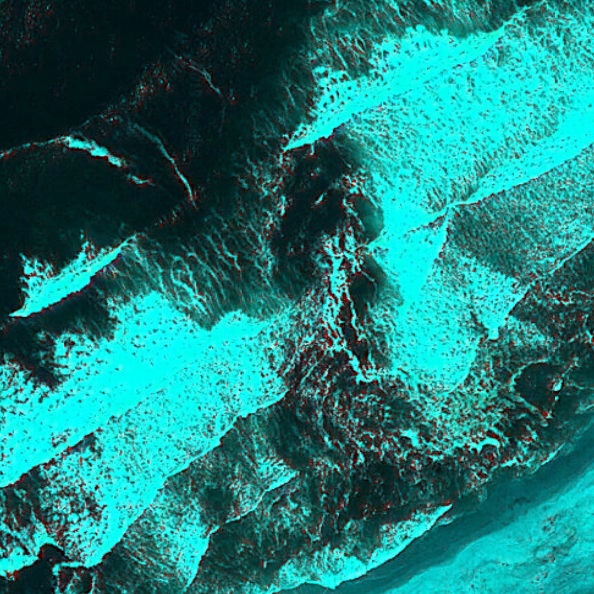rip_current: (140, 121, 461, 494)
